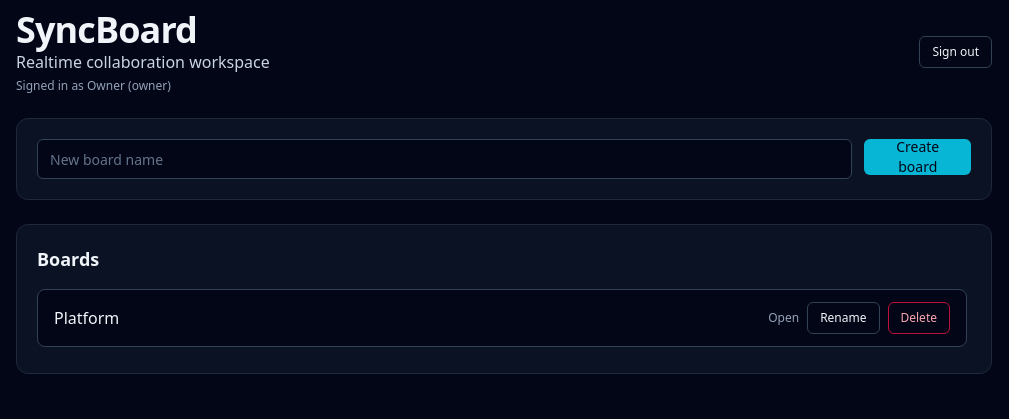
Scenario: BoardsPage › shows validation message for empty form
The width and height of the screenshot is (1009, 419).
Click the button "Create board": (918, 157) [864,139,971,175]
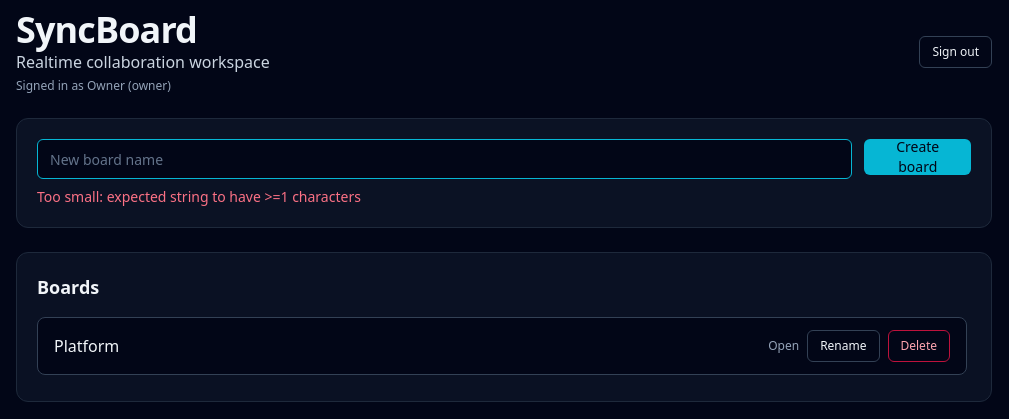
Check: the text "expected string to have >=1 characters" is shown, box [37,187,361,206]
